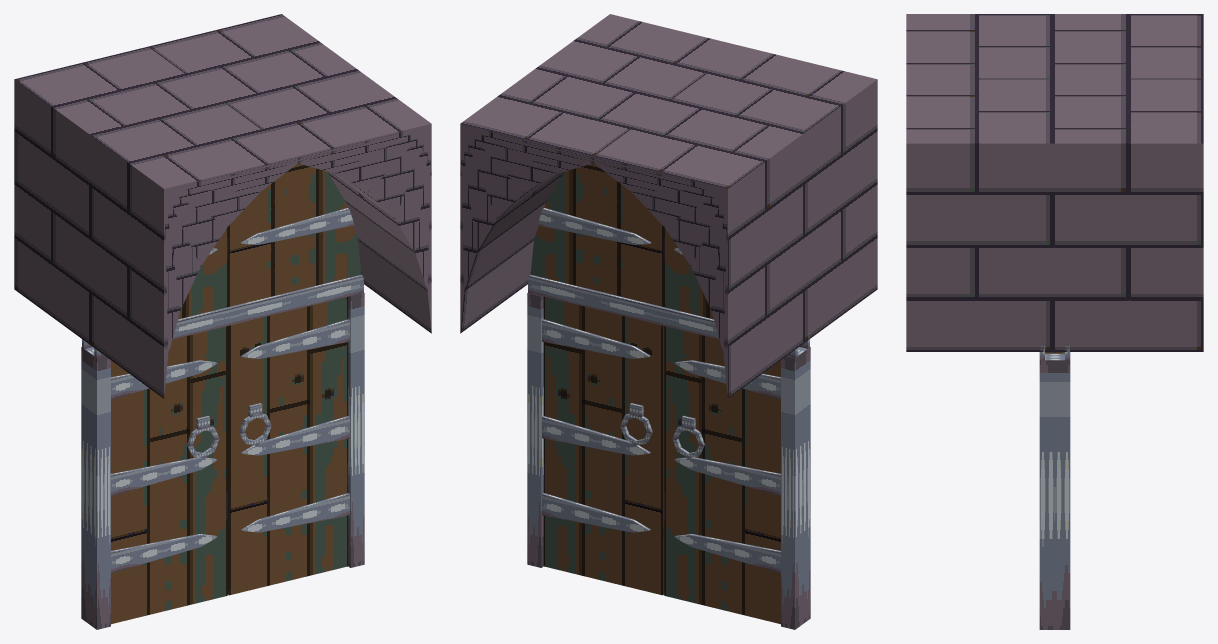
The model's file is door_normal.glb.
3 views of the same model, side by side, from view 1: azimuth 30°, elevation 25°; view 2: azimuth 150°, elevation 25°; view 3: azimuth 270°, elevation 25° (orthographic).
Visible parts, largest first — view 1: portal, leaf_a, leaf_b; view 2: portal, leaf_a, leaf_b; view 3: portal.
Part boxes in pixels (bbox=[...]): portal: bbox=[14, 14, 431, 629]; leaf_a: bbox=[227, 296, 349, 595]; leaf_b: bbox=[111, 326, 227, 624]; portal: bbox=[460, 14, 877, 629]; leaf_a: bbox=[542, 296, 664, 595]; leaf_b: bbox=[664, 326, 780, 624]; portal: bbox=[906, 14, 1203, 629].
Size of the model in its own units: 2 by 3.5 by 1.94.
Materials: 1 (1 with a texture image).
